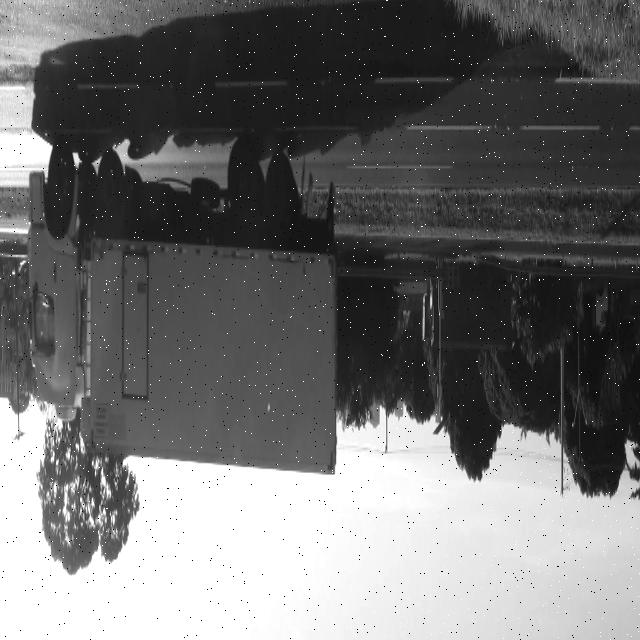-axle: (264, 154, 296, 238), (228, 137, 258, 222), (47, 141, 74, 222), (96, 152, 123, 226)
